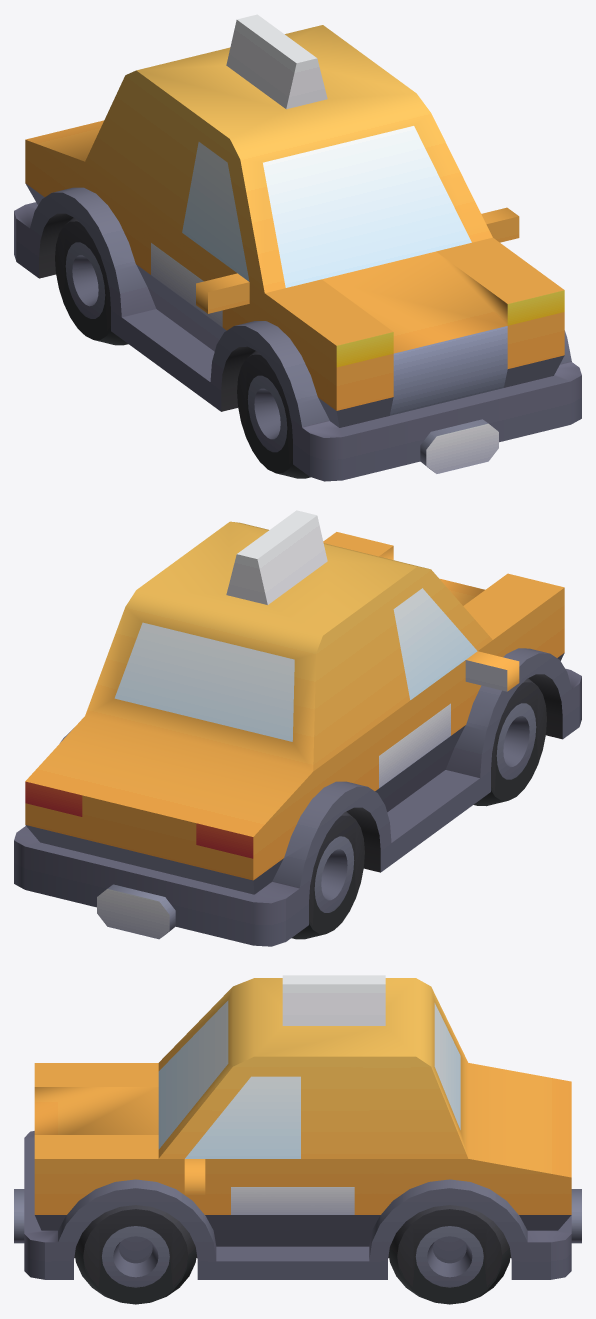
File: kenney-taxi.glb
3 views of the same model, one above another, from view 1: azimuth 30°, elevation 25°; view 2: azimuth 150°, elevation 25°; view 3: azimuth 270°, elevation 25° (orthographic). The views are drawn at different scales.
Parts seen in each view (by area): view 1: body; view 2: body; view 3: body.
Part boxes in pixels (x1,y1,x2,y2): body: [14, 14, 581, 481]; body: [14, 510, 581, 946]; body: [14, 975, 581, 1304].
Size of the model in its own units: 1.5 by 1.5 by 2.75.
1 material, 1 textured.
